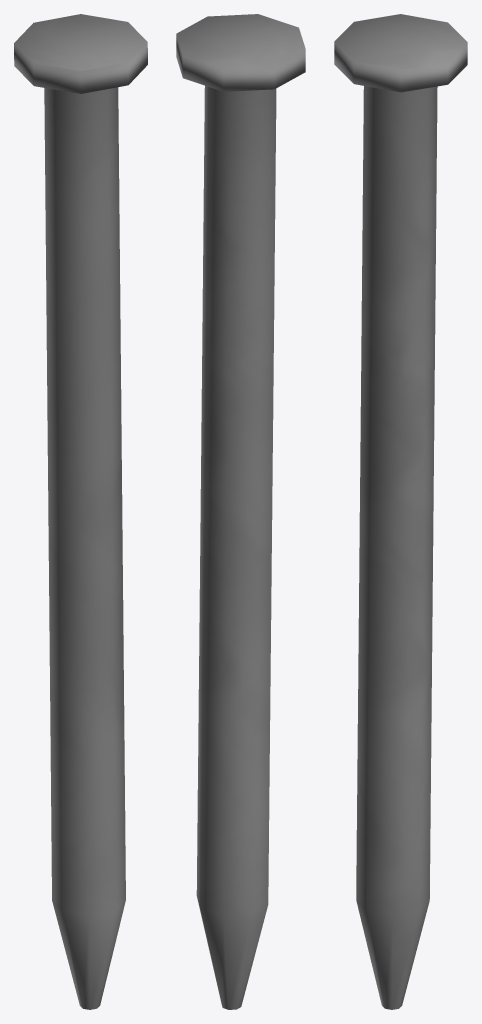
Rendered from Nail.fbx.
3 renders of one model, left to right at view 1: azimuth 90°, elevation 25°; view 2: azimuth 210°, elevation 25°; view 3: azimuth 270°, elevation 25°, orthographic.
Visible parts, largest first — view 1: Hammer:Nail; view 2: Hammer:Nail; view 3: Hammer:Nail.
Boxes of the visible parts, left/top/right/bottom form: Hammer:Nail: left=14, top=14, right=147, bottom=1009; Hammer:Nail: left=176, top=14, right=305, bottom=1009; Hammer:Nail: left=334, top=14, right=467, bottom=1009.
Size of the model in its own units: 14.58 by 116 by 14.58.
